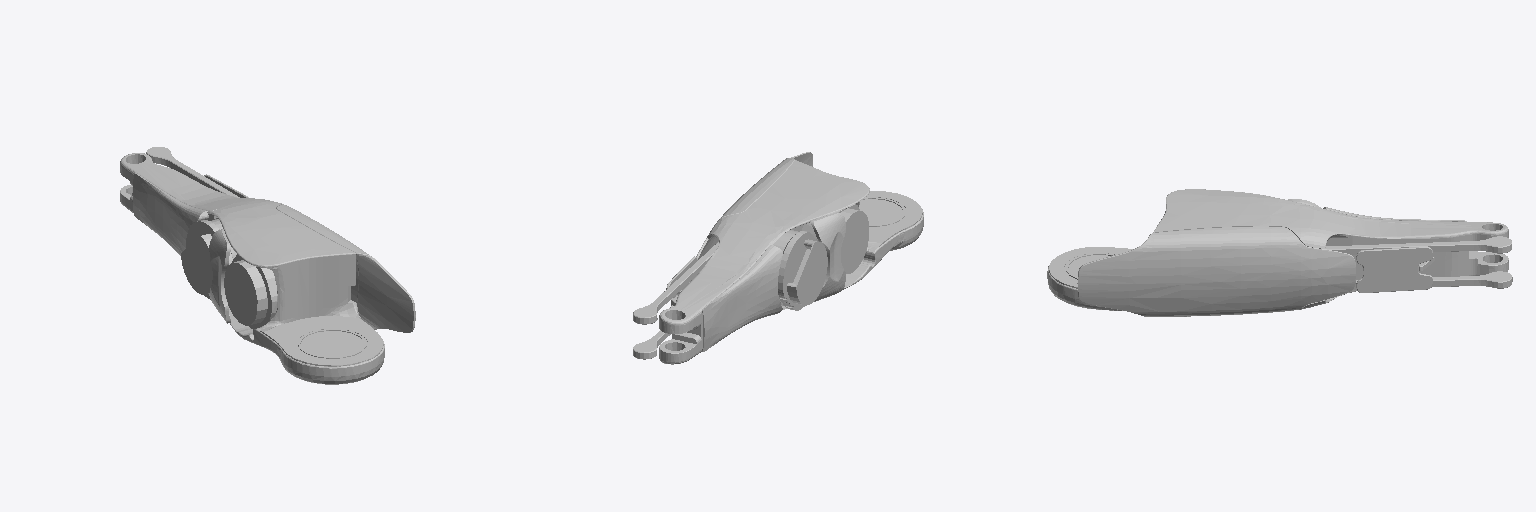
The model's file is right_knee_link_visuals.obj.
3 renders of one model, left to right at view 1: azimuth 30°, elevation 25°; view 2: azimuth 150°, elevation 25°; view 3: azimuth 270°, elevation 25°, orthographic.
Bounding box in the file's own units: 0.1038 × 0.0717 × 0.3551.